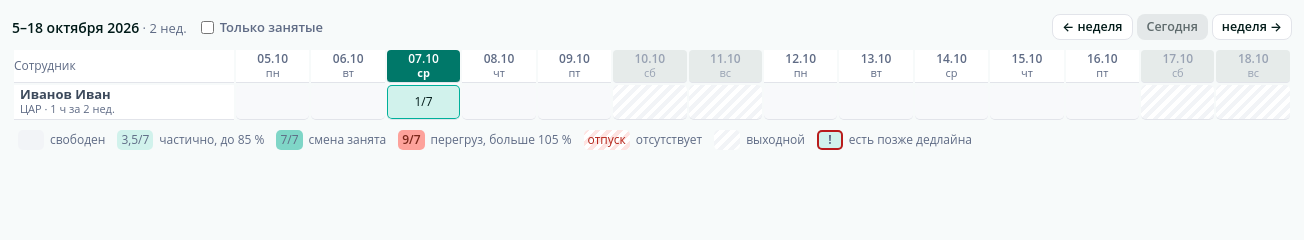
Test: затянувшаяся взятая доля — загрузка от «сейчас» на остаток, план истёк (владелец, 22.10)
Click the button named "Загрузка Иванов Иван 07.10" at (424, 102), box 387,85 -> 460,119
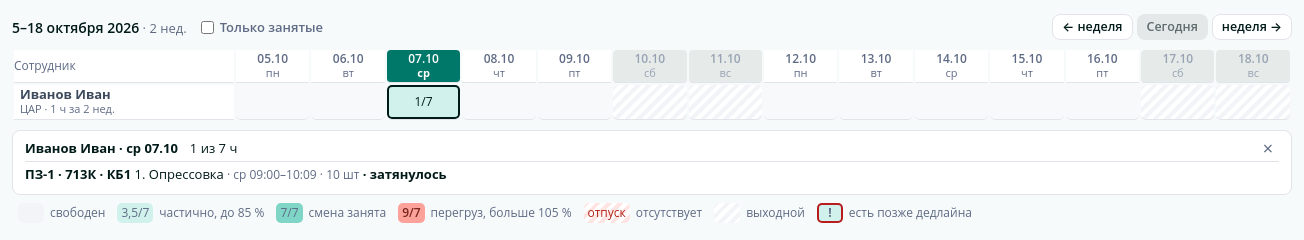
Check: the element named "Что в дне: Иванов Иван, 07.10" shows "09:00–10:09", box 233,166 -> 317,183
Check: the element named "Что в дне: Иванов Иван, 07.10" shows "затянулось", box 359,165 -> 447,183
